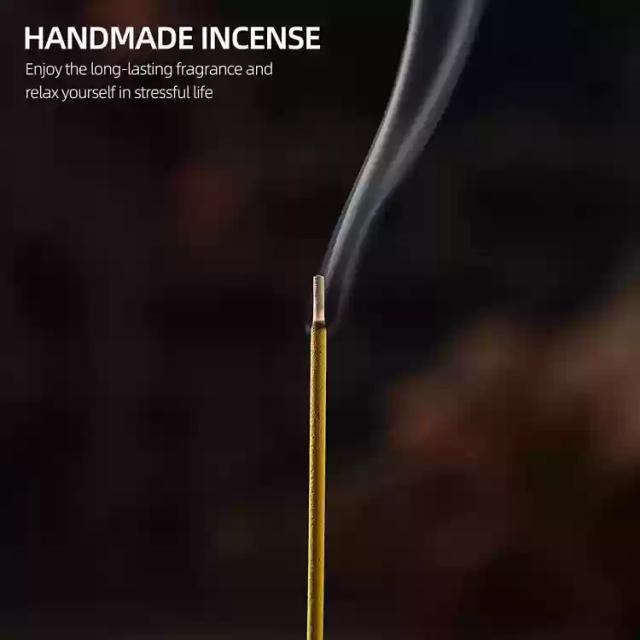Agarbatti: (303, 261, 335, 640)
